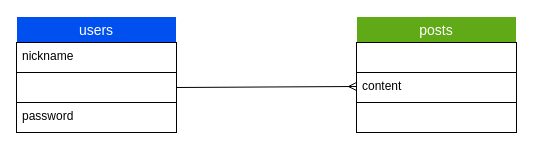
Image size: 533x149. Some labels were removed from this diagram. The centre of each missing label's shape, as x and y in pixels:
"email" belongs at point 96,87.
"title" belongs at point 436,57.
"user_id" belongs at point 436,117.
